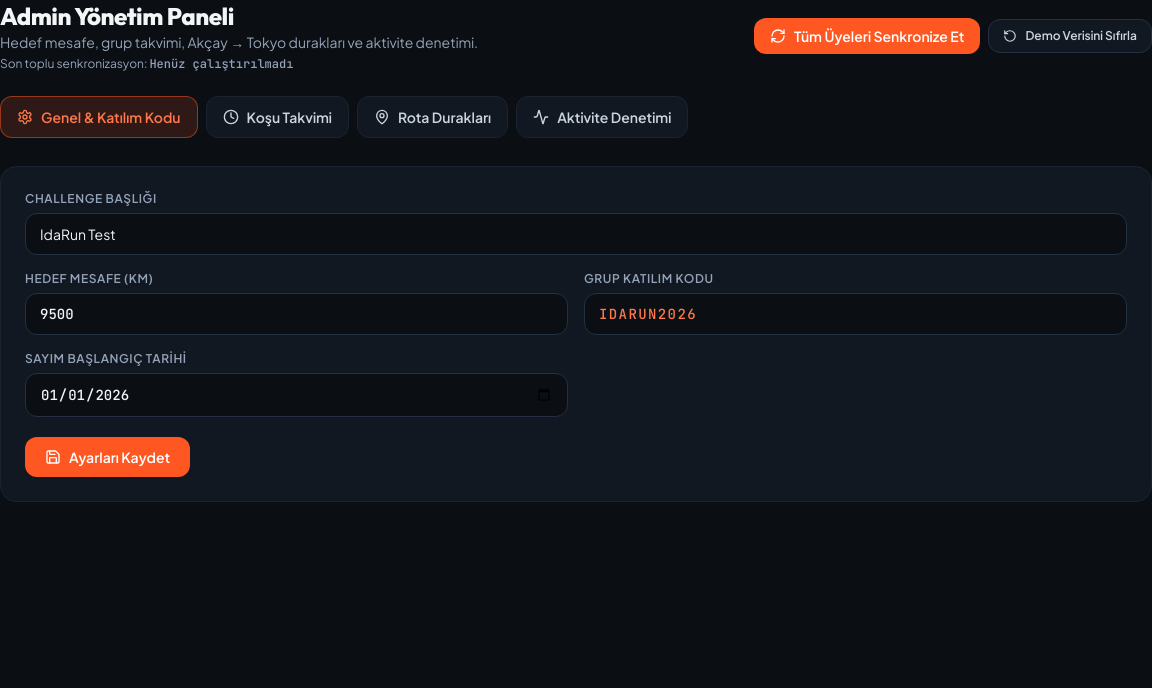
Test: AdminPanel koşu takvimi düzenleme (edit) › mevcut bir koşu penceresini silmeden yerinde düzenler, önizlemeyi günceller ve kaydeder
Later steps or results of the test are not shown.
Click the button "Koşu Takvimi".
click(277, 117)  # box 206,96 -> 349,138
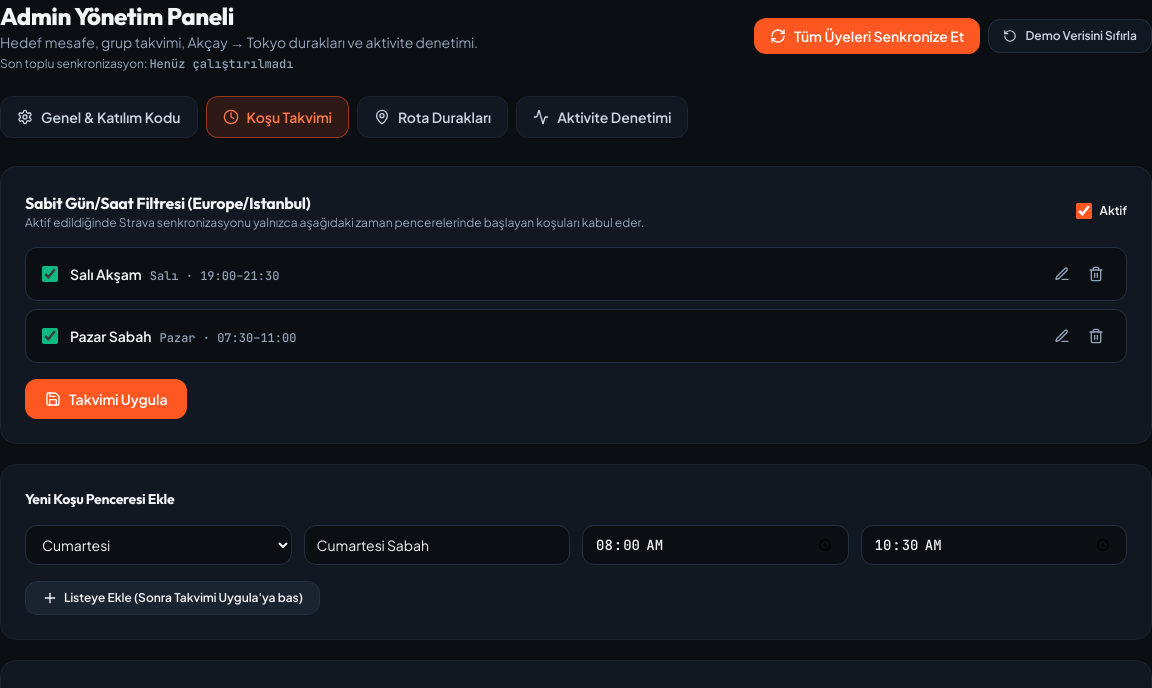
// İlk satır için düzenleme butonuna bas
Click the button named "Pencereyi düzenle" in the row of "21:30".
click(1062, 274)  # box 1048,260 -> 1076,288
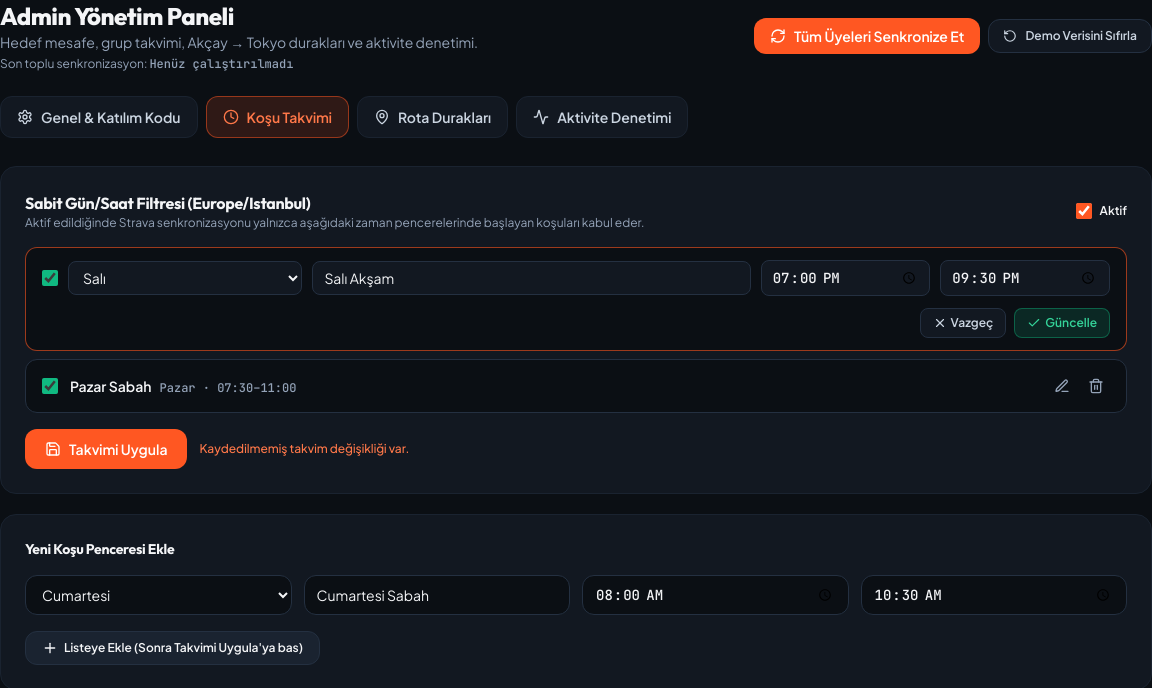
Result: the element with test id "schedule-edit-row-tue-eve" is shown at 25,247 -> 1127,351
Result: the dropdown named "Koşu günü" shows "Salı"
Result: the field named "Koşu etiketi" holds "Salı Akşam" at 312,261 -> 751,295
// Günü Çarşamba (3), etiketi ve saatleri değiştir
Select "Çarşamba" in the dropdown named "Koşu günü" at (185, 278), box 68,261 -> 302,295
Replace the text in the field named "Koşu etiketi" with "Çarşamba Tempo" at (531, 278), box 312,261 -> 751,295
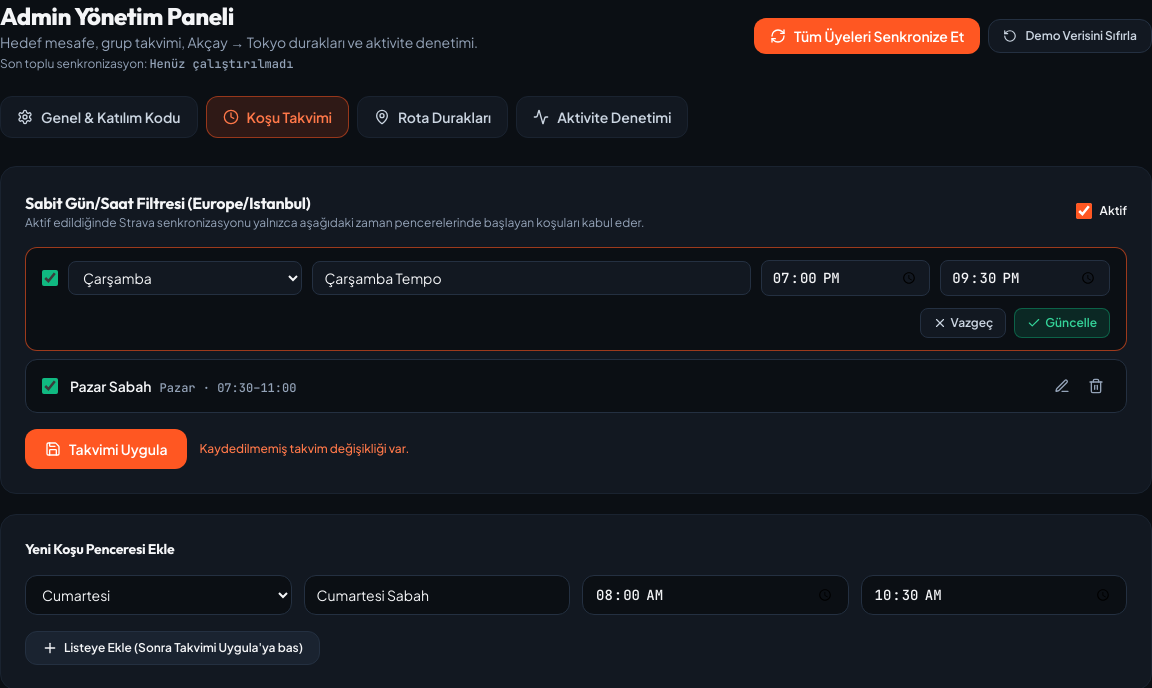
Replace the text in the time field named "Başlangıç saati" with "18:30" at (846, 278), box 761,260 -> 930,296
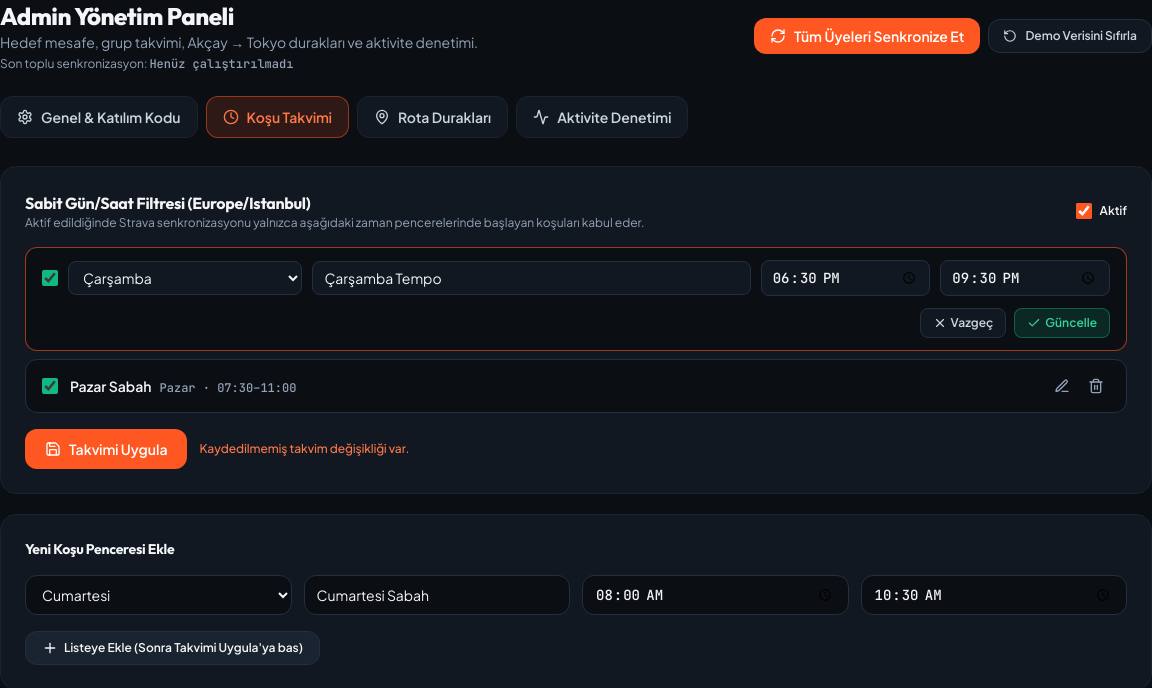
Replace the text in the time field named "Bitiş saati" with "20:30" at (1025, 278), box 940,260 -> 1110,296
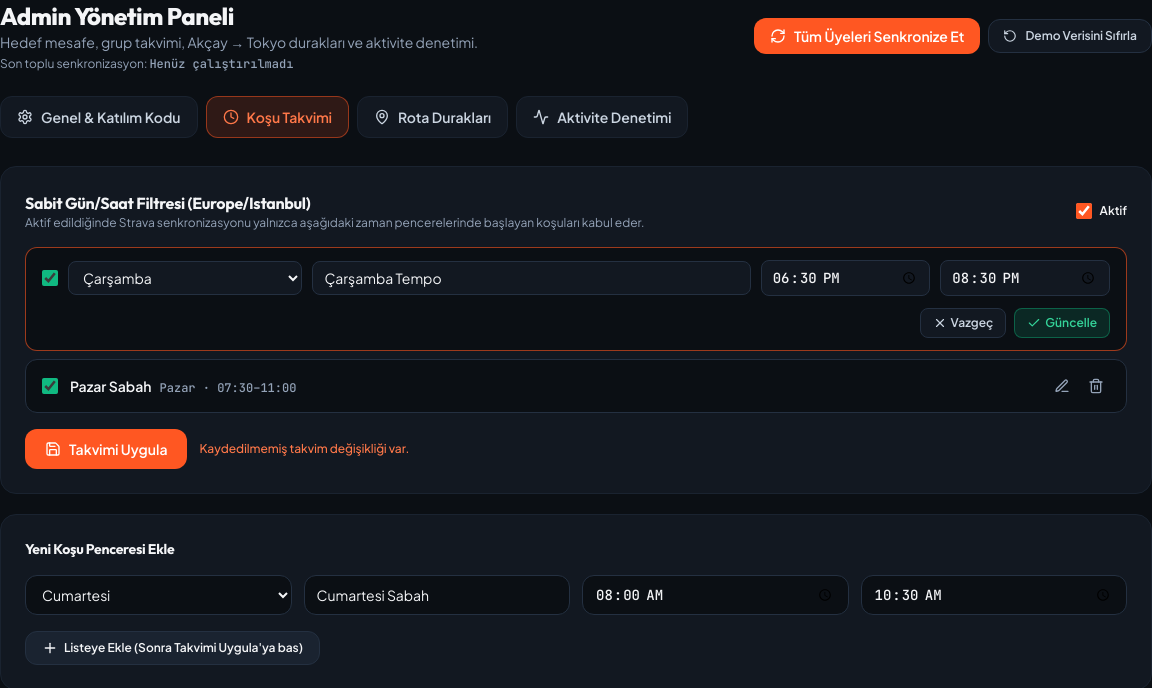
// Güncelle butonuna bas
Click the button with aria-label "Düzenlemeyi kaydet".
click(1062, 323)  # box 1014,308 -> 1110,338
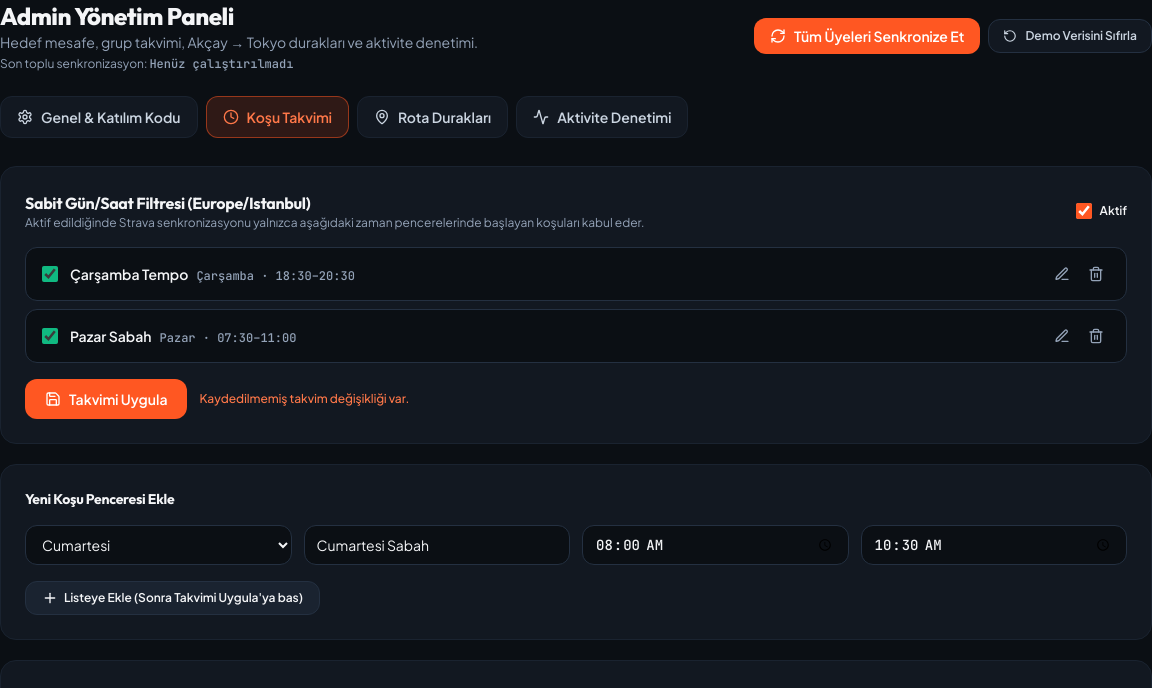
Result: the text "Kaydedilmemiş takvim değişikliği var." is shown at 200,391 -> 409,407
Result: the text "Çarşamba Tempo" is shown at 70,265 -> 188,283
Result: the text "Çarşamba · 18:30–20:30" is shown at 196,268 -> 355,284
